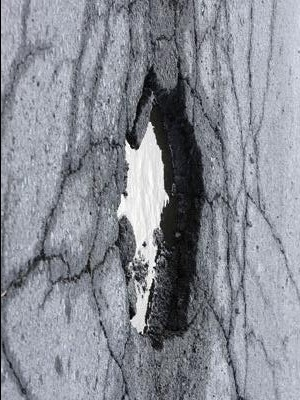pothole: (110, 63, 212, 352)
